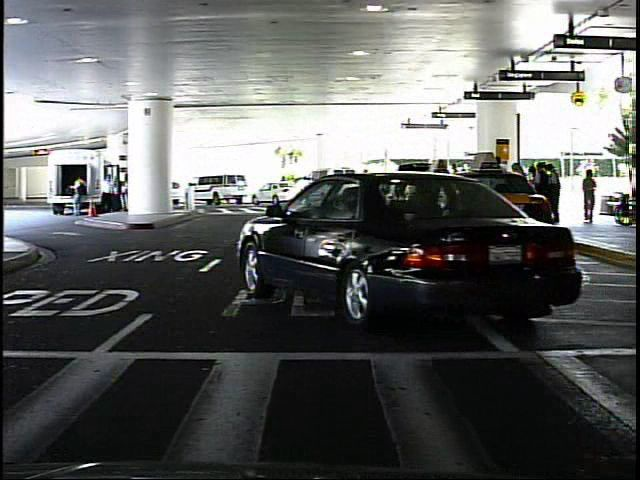person: (356, 165, 380, 220), (579, 166, 599, 227)
